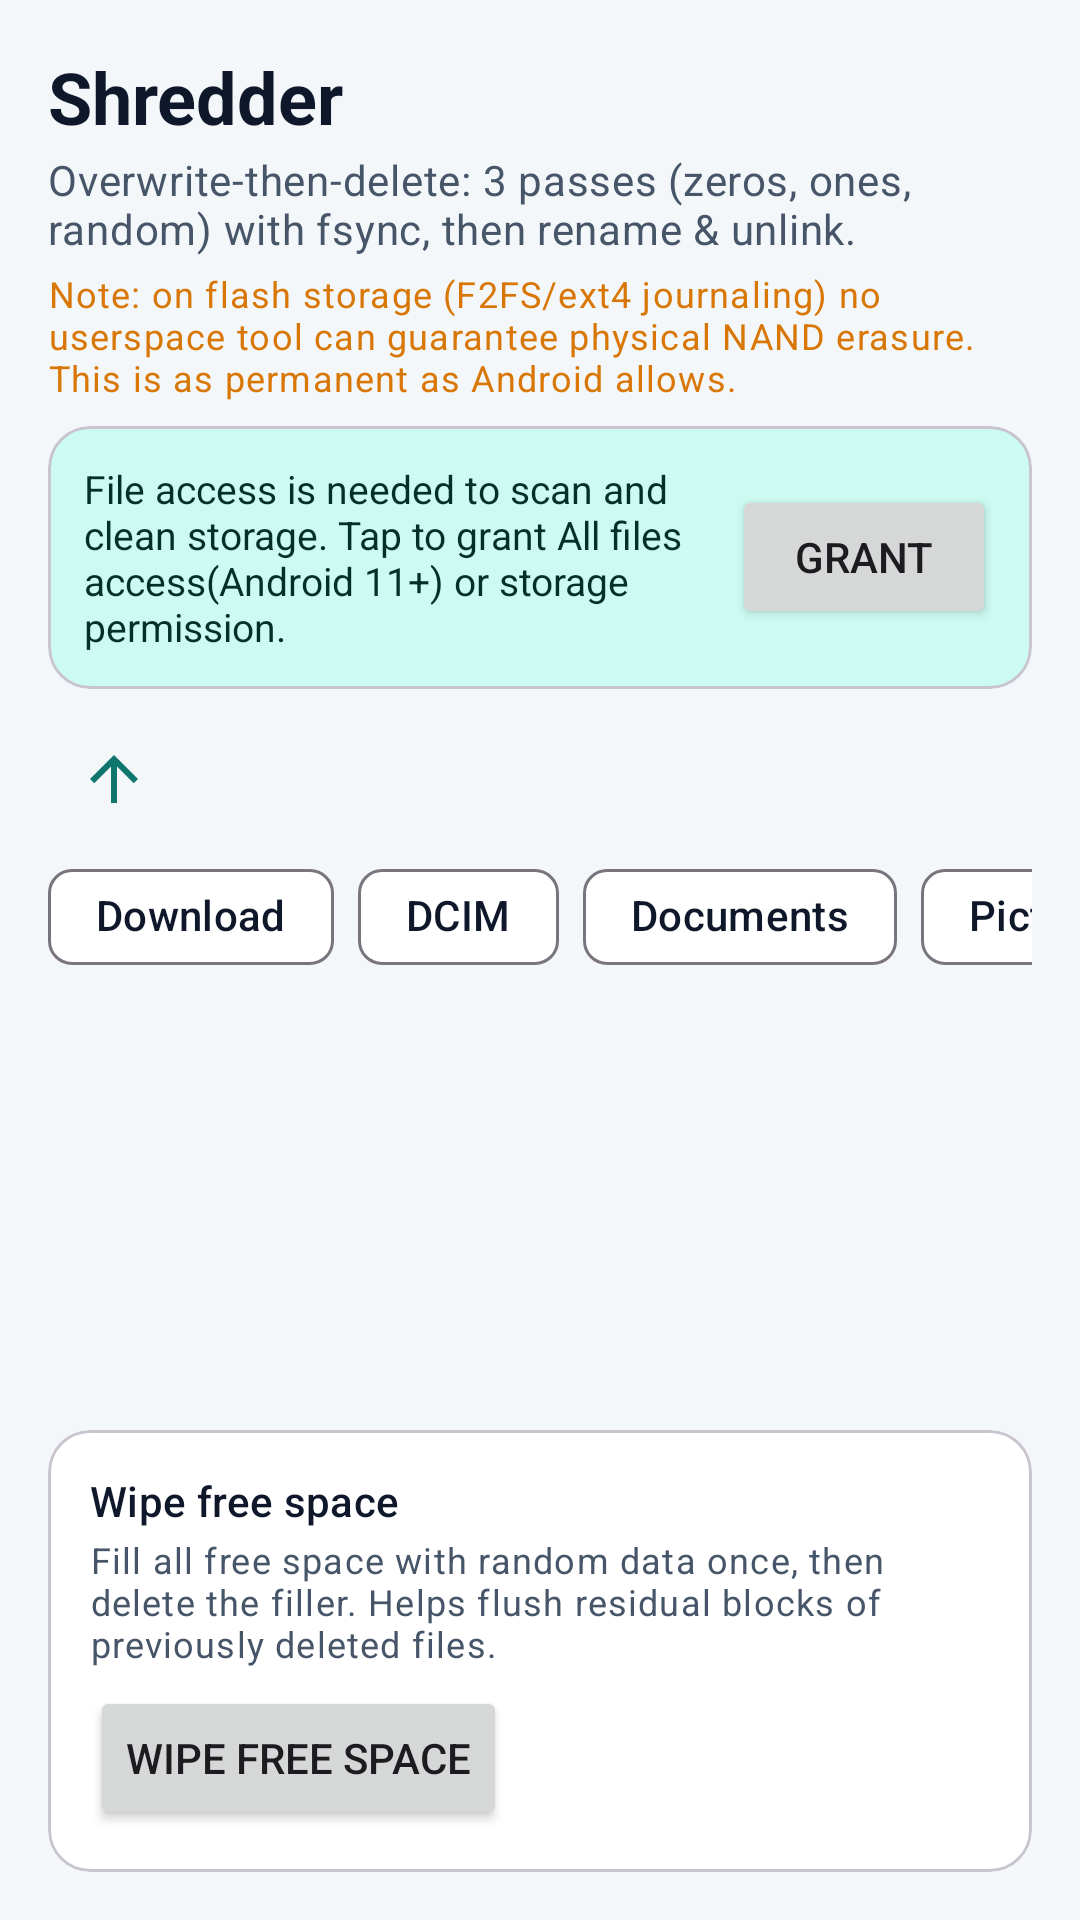

Where icons sit on this 1080w x 1920h app screen, as {"x1": x1, "y1": y1, "x2": x2, "y2": y2}:
Up one level: {"x1": 90, "y1": 755, "x2": 138, "y2": 803}
